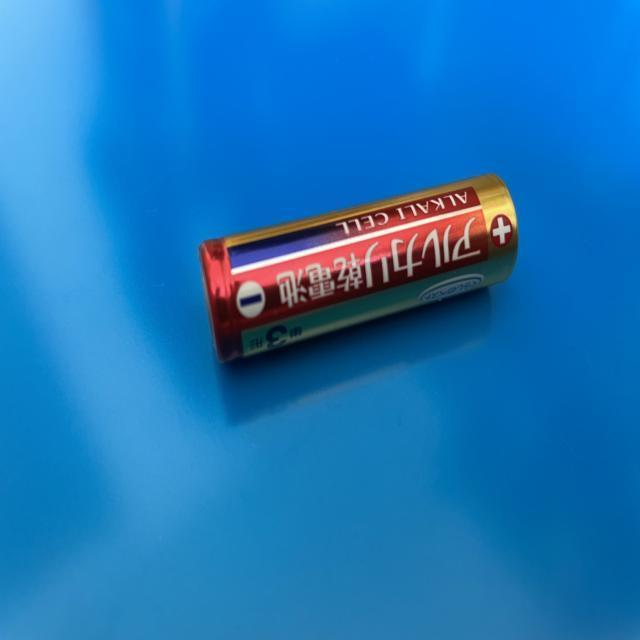AA: (194, 171, 522, 365)
